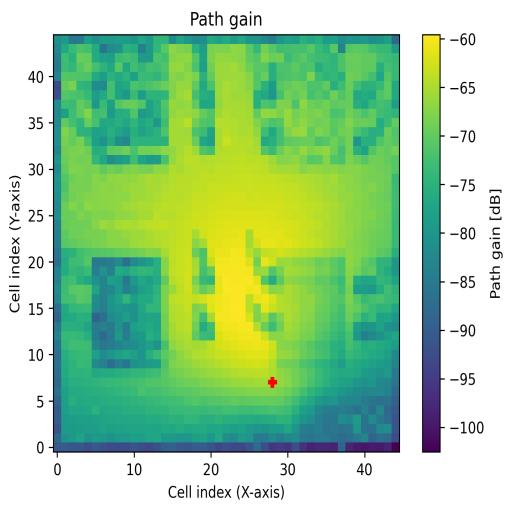Concrete: (261, 44, 346, 165)
Glass: (91, 46, 169, 164)
Metal: (274, 249, 345, 369)
Wood: (92, 257, 162, 369)
